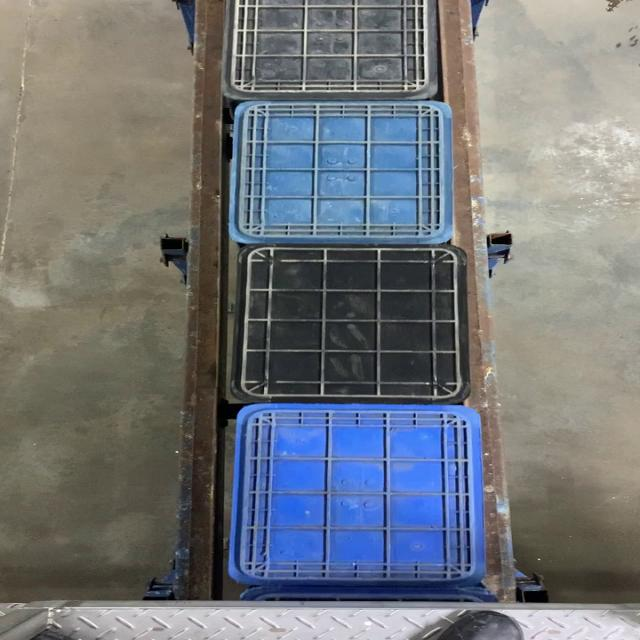Box: (229, 402, 487, 586), (229, 245, 467, 403), (226, 101, 455, 245)
